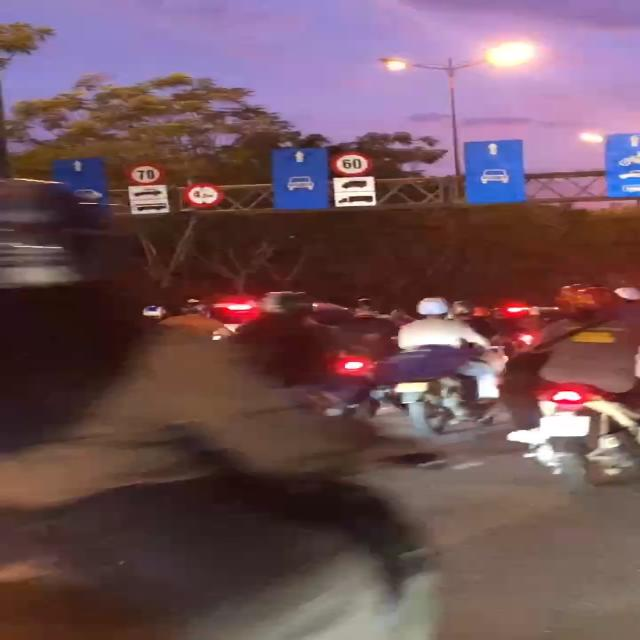Bien bao toc do toi da cho phep: (326, 150, 379, 181), (126, 163, 171, 186)
